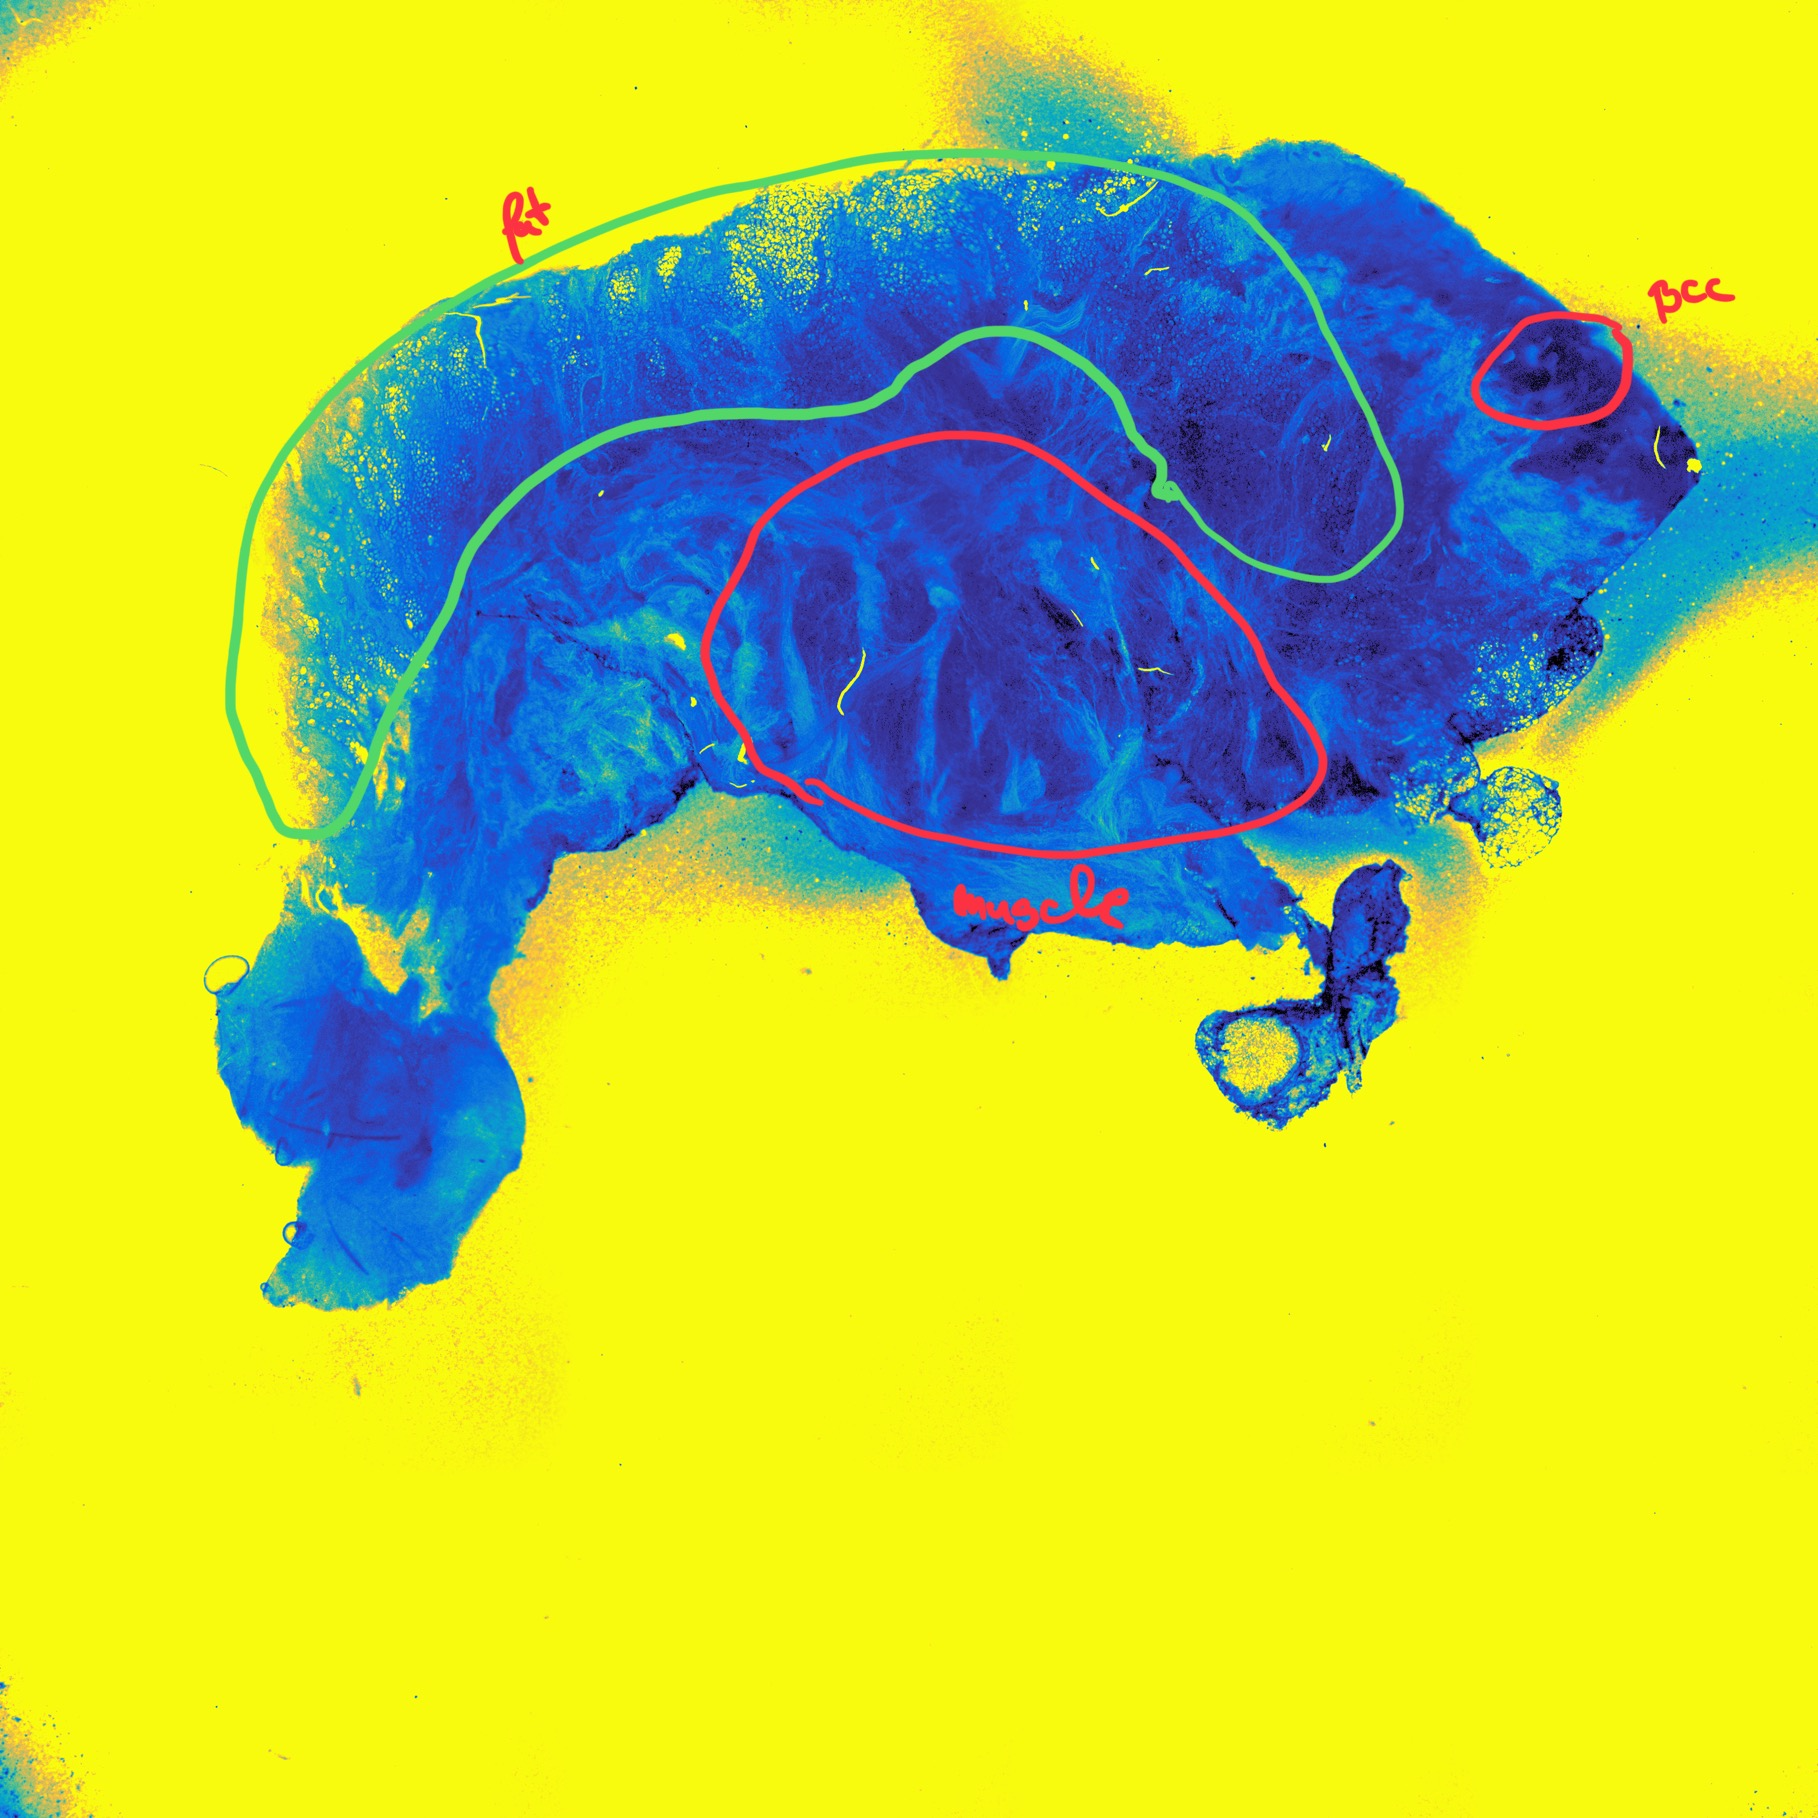BCC: (1512, 340, 1597, 401)
